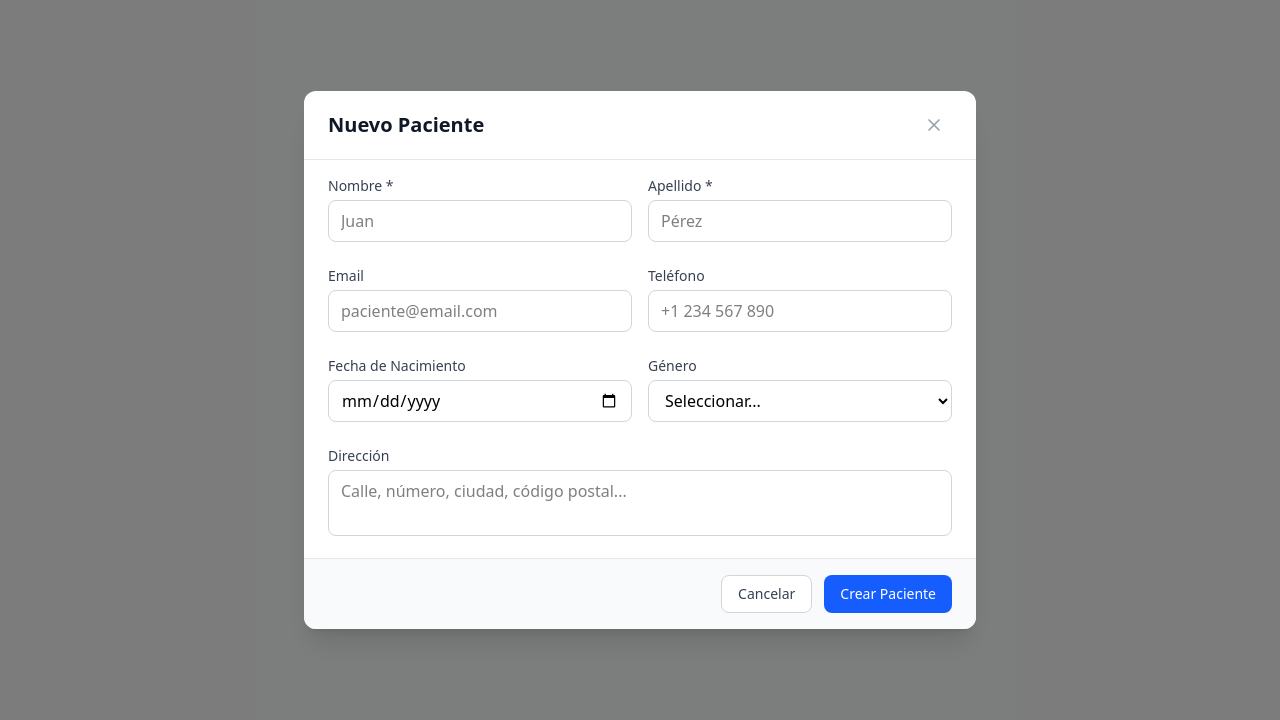
Test: PatientFormModal › form validation › should show error for required firstName
The image size is (1280, 720).
In the field with placeholder "Pérez": (800, 221) [648,200,952,242], type "Doe"
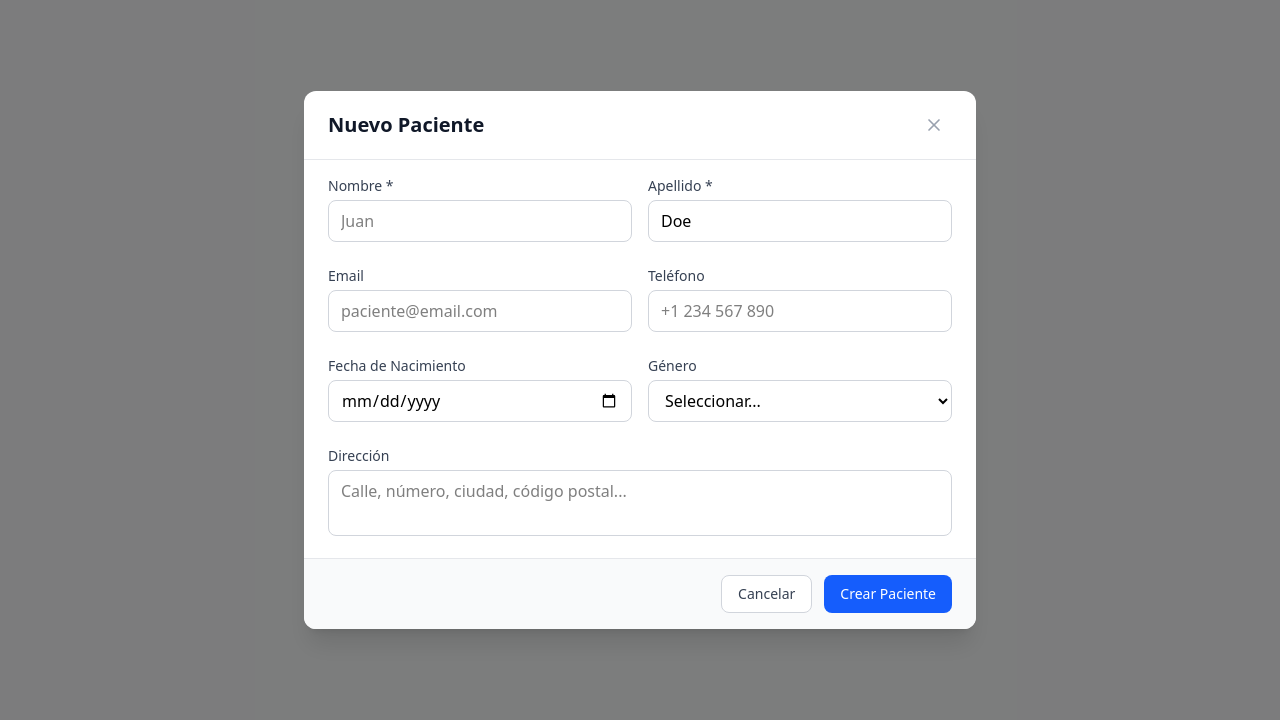
Click the button "Crear Paciente": (888, 594) [824,575,952,613]
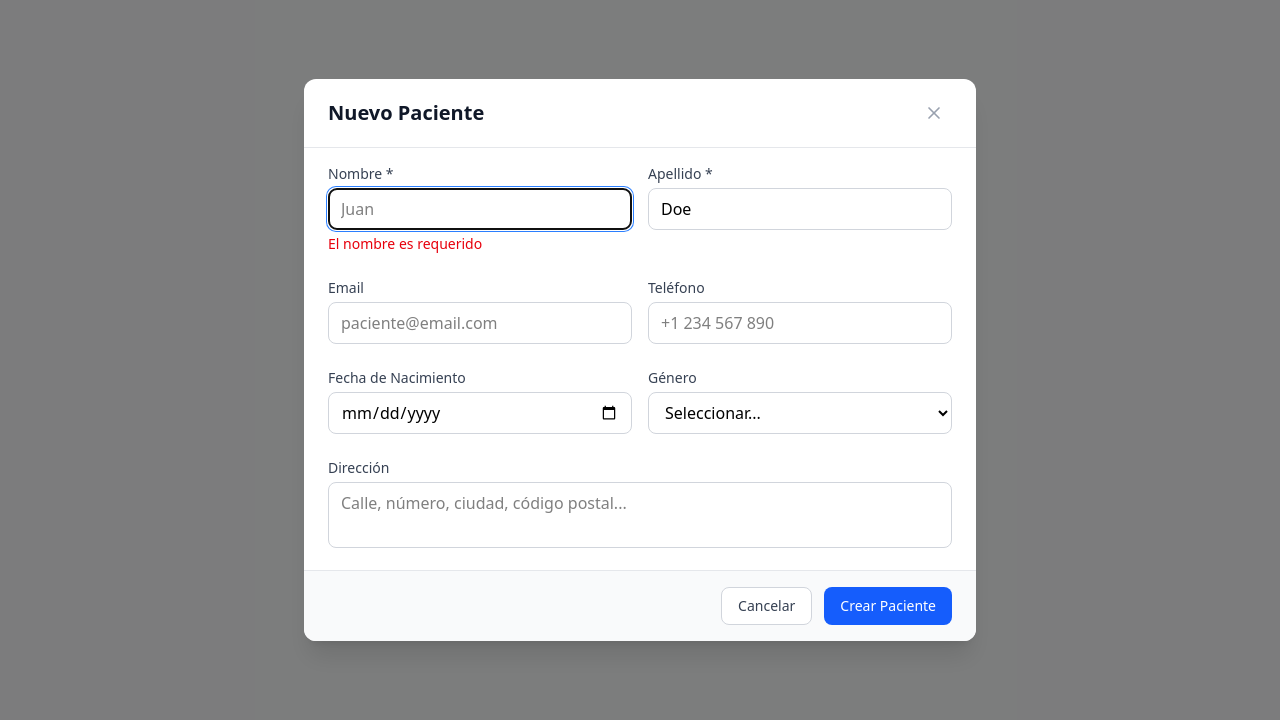
Expected: the text "El nombre es requerido" is shown, [328,234,482,253]
